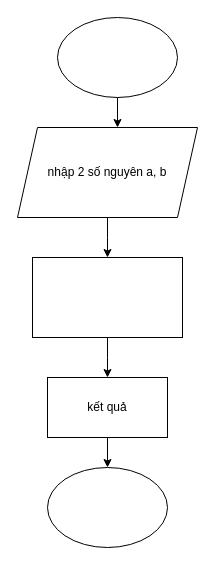
The diagram is 215 pixels wide and 565 high, and some of its shapes have lost their labels. The shapes that lost their labels are listed below. From the top down, each one's centre as x and y in pixels, then its label:
At [117,57]: "bắt đầu".
At [107,297]: "tính tổng a + b".
